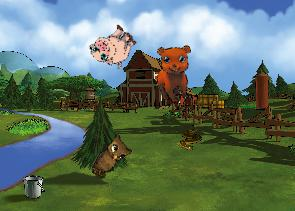bear: (149, 40, 203, 106)
owl: (89, 131, 136, 185)
pig: (85, 18, 141, 74)
